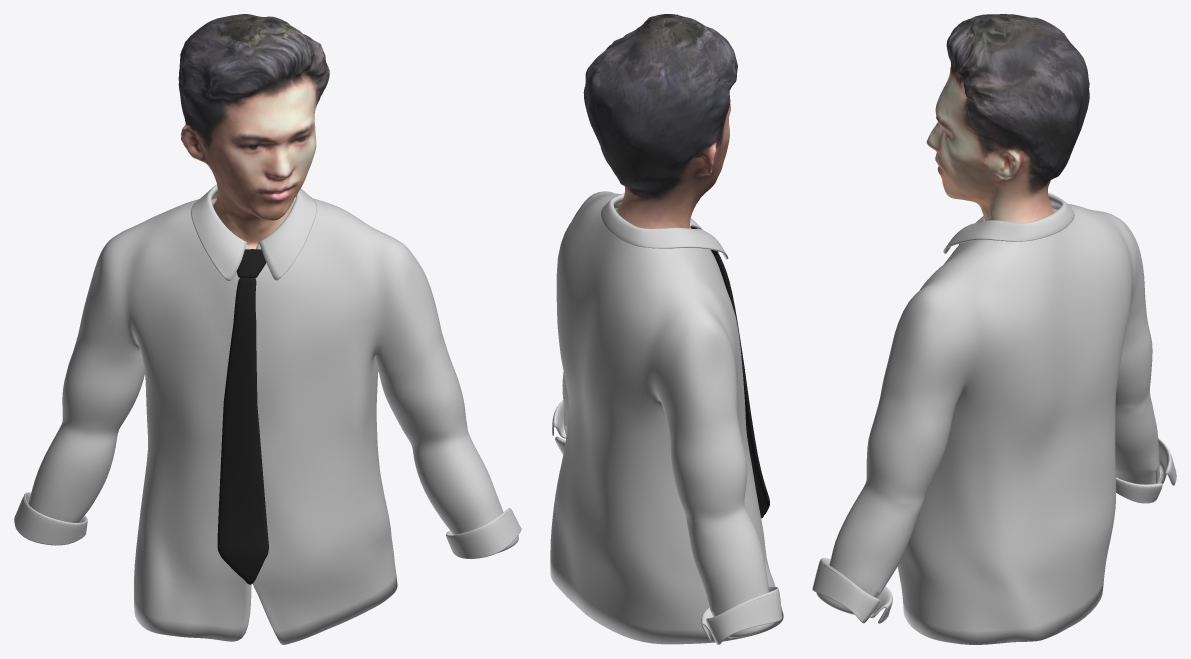
Rendered from rakha_rigged.glb.
The picture shows the model from 3 angles, left to right: view 1: azimuth 30°, elevation 25°; view 2: azimuth 150°, elevation 25°; view 3: azimuth 270°, elevation 25°; orthographic projection.
Parts seen in each view (by area): view 1: rakha-shirt (variant2).002, rakha-shirt (variant2).001, rakha-shirt (variant2).003; view 2: rakha-shirt (variant2).002, rakha-shirt (variant2).001, rakha-shirt (variant2).003; view 3: rakha-shirt (variant2).002, rakha-shirt (variant2).001.
Boxes of the visible parts, x1,y1,x2,y2 form: rakha-shirt (variant2).002: (14,184,521,644); rakha-shirt (variant2).001: (178,14,329,249); rakha-shirt (variant2).003: (217,249,268,584); rakha-shirt (variant2).002: (550,191,783,644); rakha-shirt (variant2).001: (583,14,737,228); rakha-shirt (variant2).003: (690,226,769,518); rakha-shirt (variant2).002: (812,192,1176,644); rakha-shirt (variant2).001: (926,14,1089,222).
Size of the model in its own units: 2.36 by 3.65 by 2.05.
3 materials, 1 textured.
